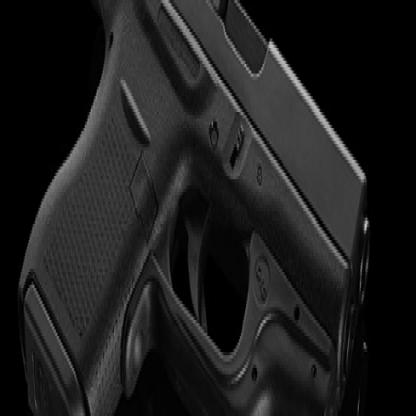gun: (13, 0, 381, 413)
